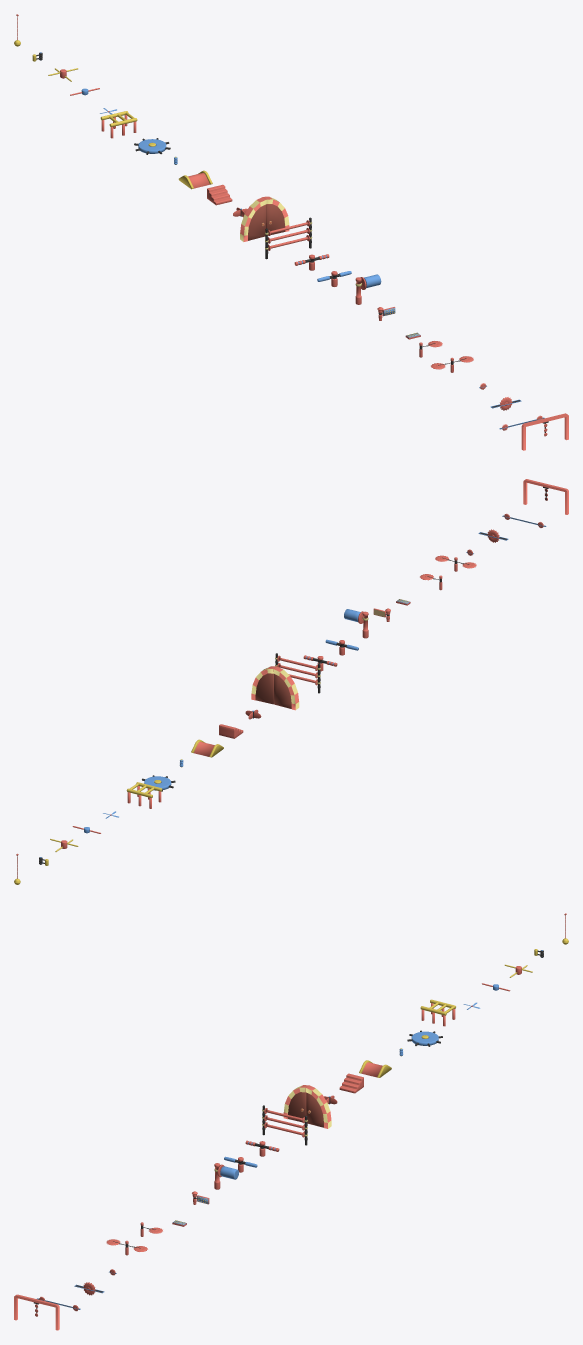
File: obstacle25.fbx
3 views of the same model, one above another, from view 1: azimuth 30°, elevation 25°; view 2: azimuth 150°, elevation 25°; view 3: azimuth 330°, elevation 25° (orthographic). The views are drawn at different scales.
Visible parts, largest first — view 1: Cylinder.003, Cube.001; view 2: Cube.001, Cylinder.003; view 3: Cylinder.003, Cube.001.
Boxes of the visible parts, left/top/right/bottom form: Cylinder.003: left=265, top=217, right=312, bottom=259; Cube.001: left=240, top=196, right=289, bottom=241; Cube.001: left=251, top=666, right=299, bottom=710; Cylinder.003: left=275, top=653, right=320, bottom=693; Cylinder.003: left=262, top=1105, right=307, bottom=1145; Cube.001: left=283, top=1085, right=331, bottom=1128.
Bounding box in the file's own units: 1160 × 1030 × 23136.
